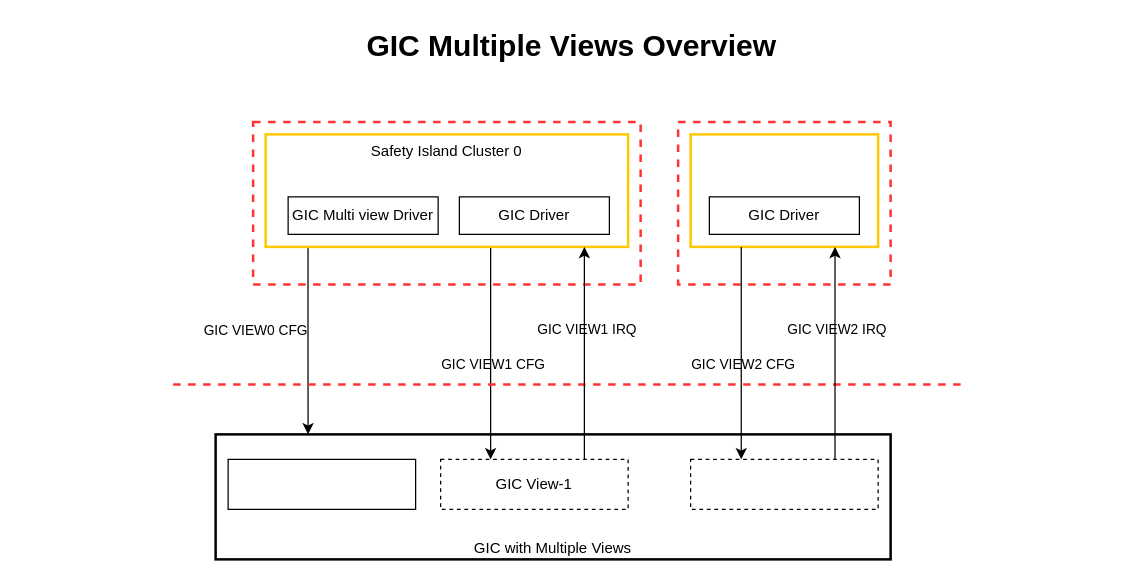
The diagram is 1143 pixels wide and 581 high, and some of its shapes have lost their labels. Here are the shapes that lost their labels. From the top down, the box of each, then its label:
(689, 132, 879, 248): Safety Island Cluster 1
(227, 458, 416, 509): GIC View-0
(689, 458, 878, 509): GIC View-2
